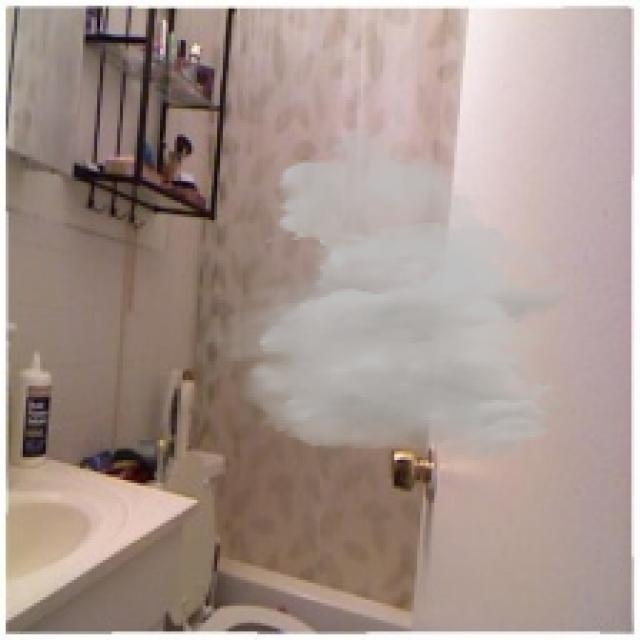Smoke: (197, 117, 572, 460)
